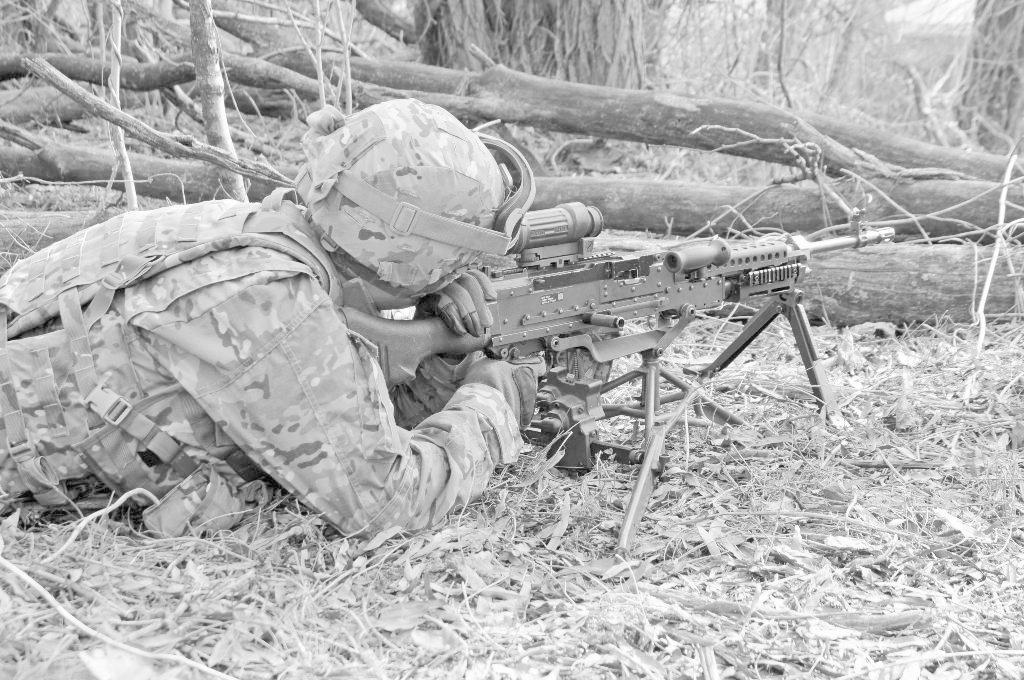gun: (346, 197, 900, 470)
